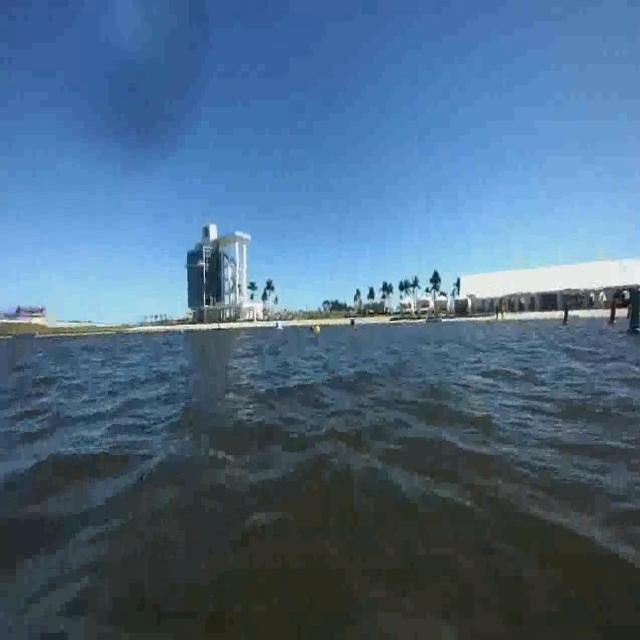green-column-buoy: (626, 290, 640, 336)
red-column-buoy: (610, 294, 622, 326)
yellow-buoy: (314, 324, 321, 335)
